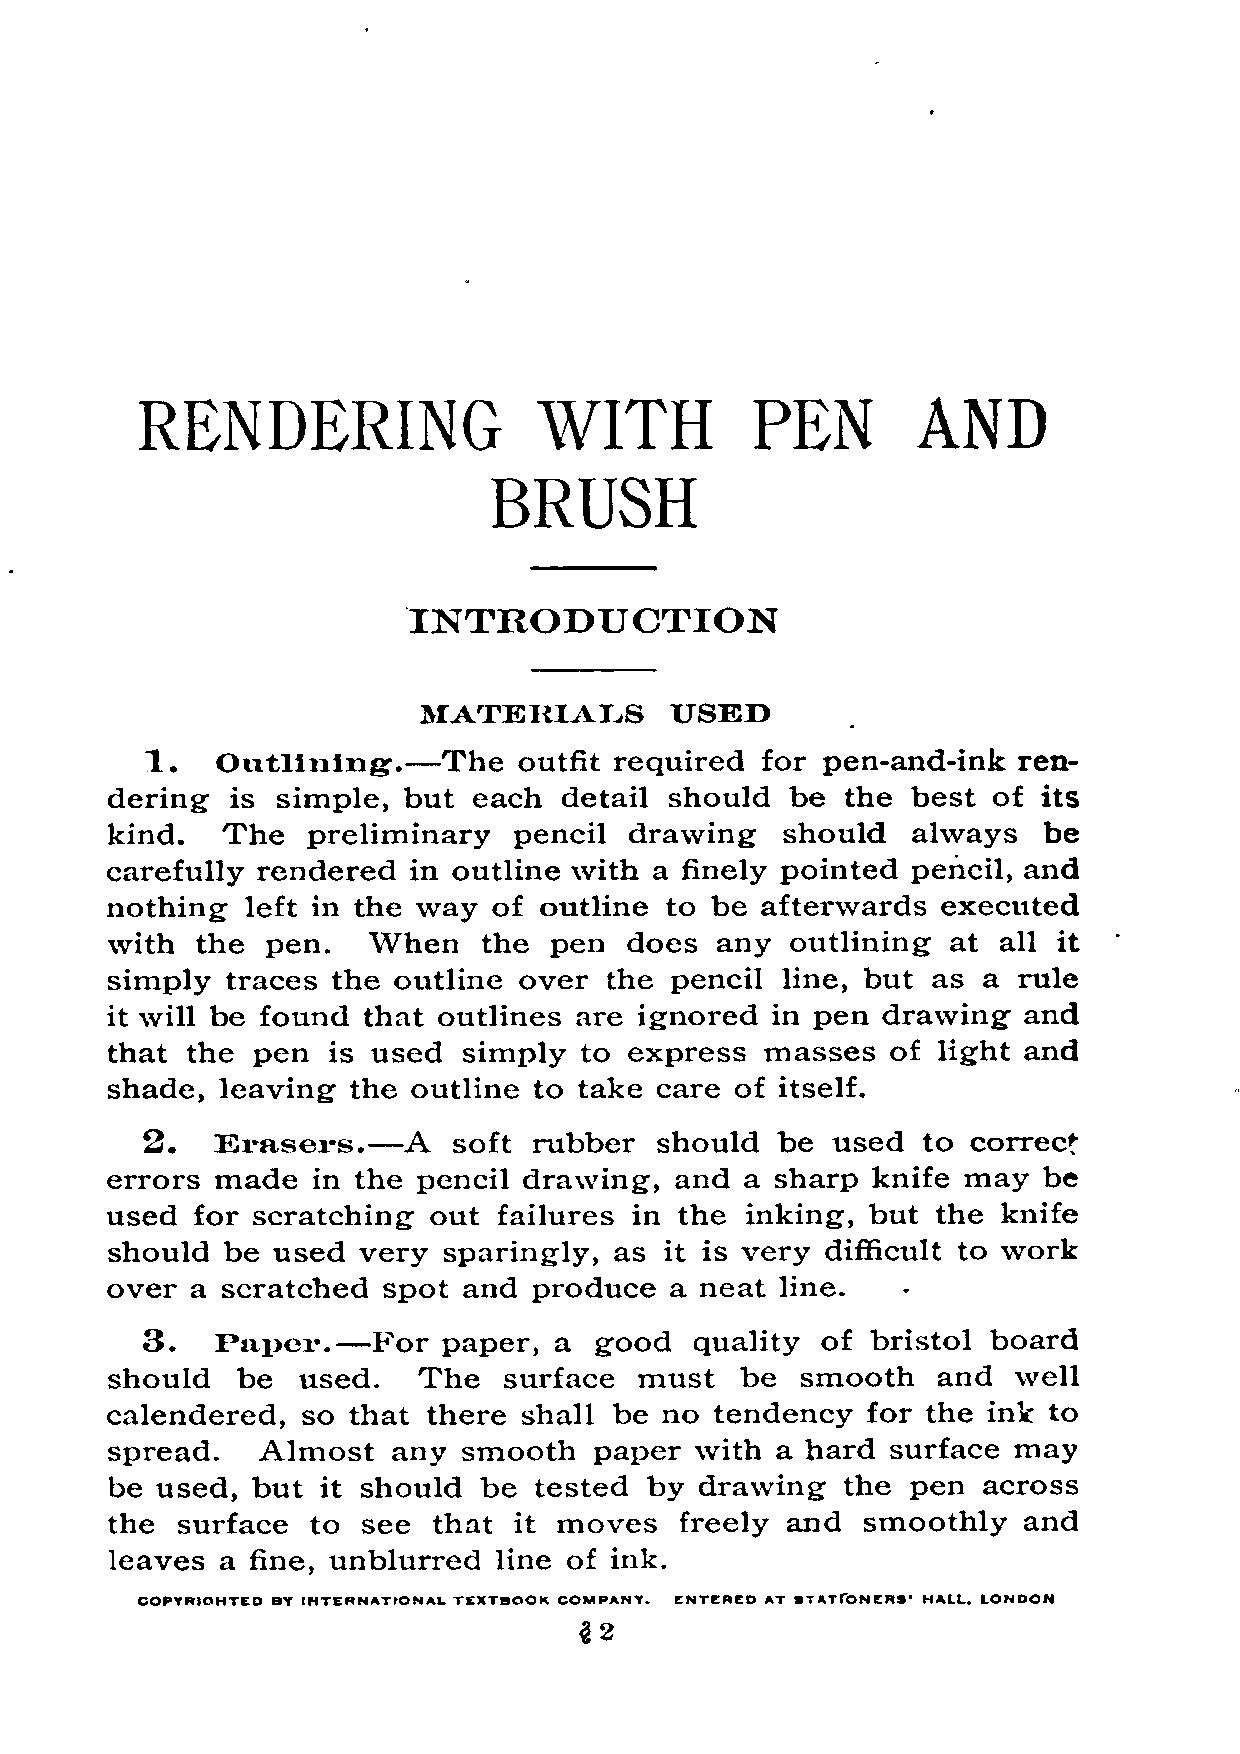chapter: (133, 392, 1048, 533), (404, 600, 782, 727)
content: (103, 739, 1082, 1576)
content_pagenumber: (577, 1616, 615, 1647)
